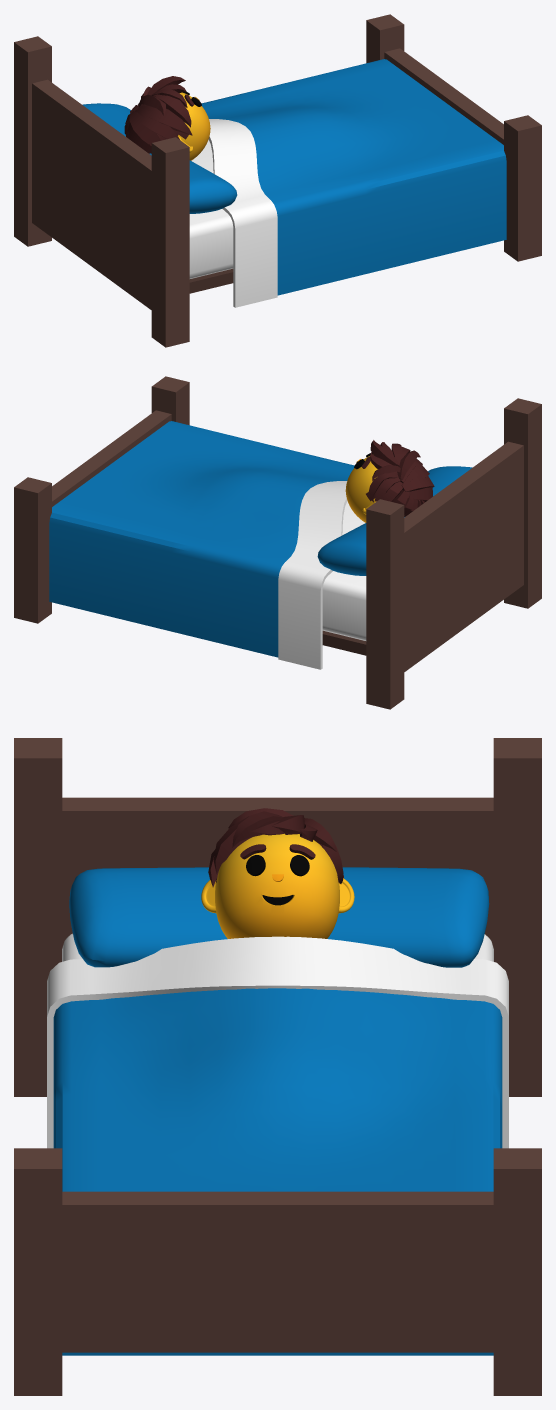
Rendered from person_in_bed.glb.
3 renders of one model, top to bottom at view 1: azimuth 30°, elevation 25°; view 2: azimuth 150°, elevation 25°; view 3: azimuth 270°, elevation 25°, orthographic. The views are drawn at different scales.
Visible parts, largest first — view 1: Cube.238, Cube.243, Roundcube.448, Cube.242; view 2: Cube.238, Cube.243, Cube.242, Roundcube.448; view 3: Cube.238, Cube.242, Roundcube.448, Cube.243, Cylinder.357.
Part boxes in pixels (x1,y1,x2,y2): Cube.238: [14, 14, 541, 347]; Cube.243: [124, 76, 192, 153]; Roundcube.448: [173, 92, 210, 160]; Cube.242: [82, 103, 130, 136]; Cube.238: [14, 376, 541, 709]; Cube.243: [368, 440, 434, 516]; Cube.242: [317, 517, 404, 575]; Roundcube.448: [345, 456, 396, 522]; Cube.238: [14, 738, 541, 1395]; Cube.242: [327, 867, 489, 967]; Roundcube.448: [215, 833, 339, 938]; Cube.243: [208, 808, 343, 887]; Cylinder.357: [201, 878, 354, 913].
Bounding box in the file's own units: 1.84 × 0.9093 × 1.29.
2 materials, 2 textured.
